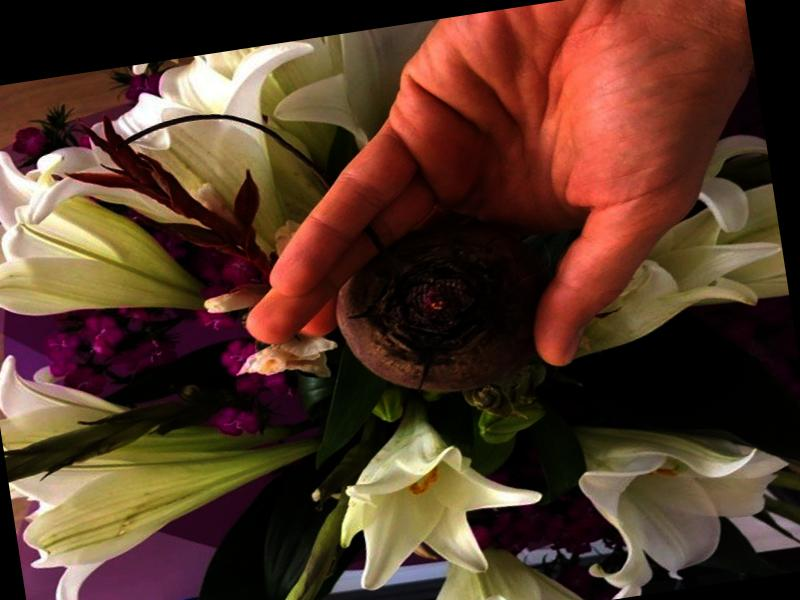Beet: (321, 206, 559, 408)
